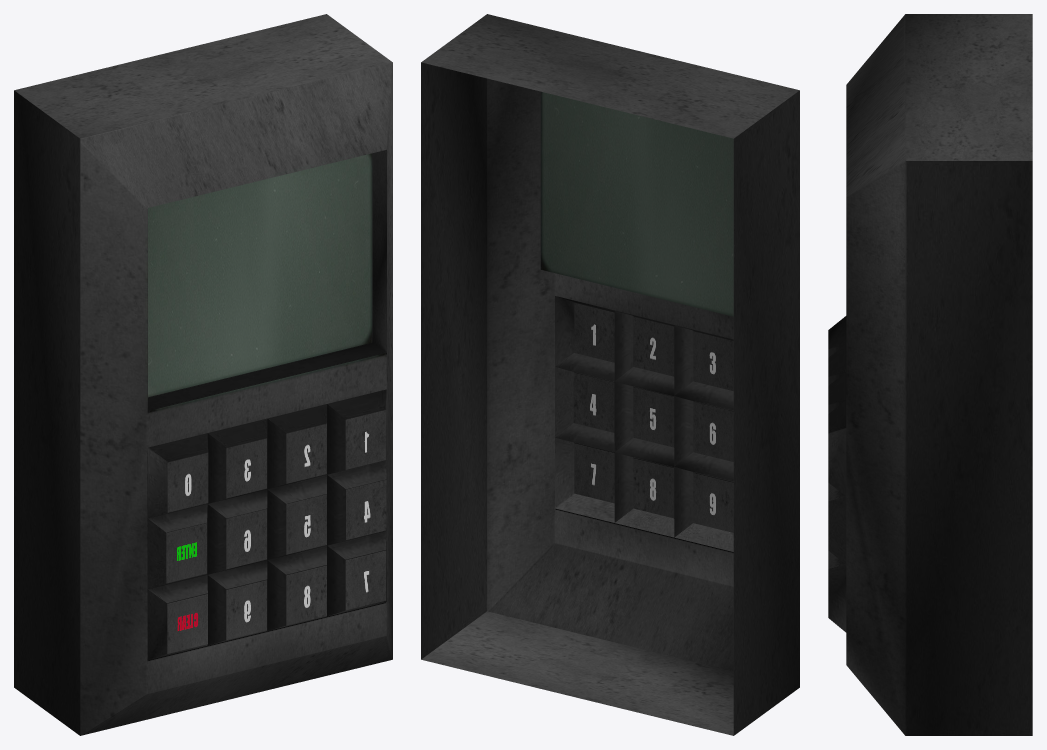
Rendered from ButtonCode.fbx.
The picture shows the model from 3 angles, left to right: view 1: azimuth 30°, elevation 25°; view 2: azimuth 150°, elevation 25°; view 3: azimuth 270°, elevation 25°; orthographic projection. The views are drawn at different scales.
Parts seen in each view (by area): view 1: Scene_Root; view 2: Scene_Root; view 3: Scene_Root.
Part boxes in pixels (x1,y1,x2,y2): Scene_Root: (14, 14, 392, 735); Scene_Root: (421, 14, 799, 735); Scene_Root: (828, 14, 1032, 735).
Size of the model in its own units: 2.76 by 5.04 by 1.63.
Materials: 1 (1 with a texture image).
